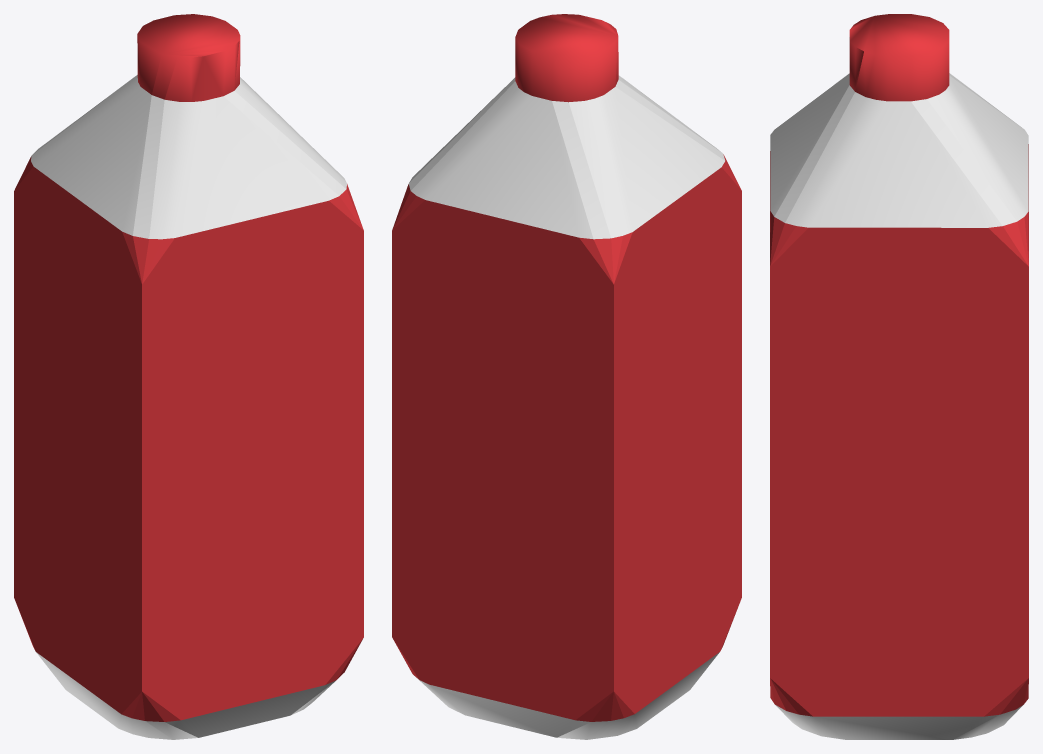
Rendered from Yoghurt.fbx.
3 renders of one model, left to right at view 1: azimuth 30°, elevation 25°; view 2: azimuth 150°, elevation 25°; view 3: azimuth 270°, elevation 25°, orthographic.
Visible parts, largest first — view 1: Yogurt; view 2: Yogurt; view 3: Yogurt.
Boxes of the visible parts, bbox=[...] form: Yogurt: bbox=[14, 14, 363, 739]; Yogurt: bbox=[392, 14, 741, 739]; Yogurt: bbox=[770, 14, 1028, 739].
Size of the model in its own units: 48.86 by 17.45 by 17.45.
